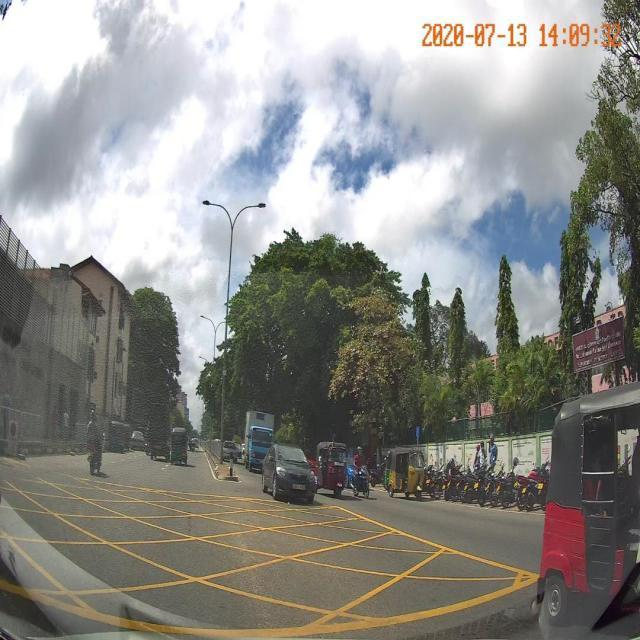Jeltaya razmetka: (2, 454, 540, 639)
